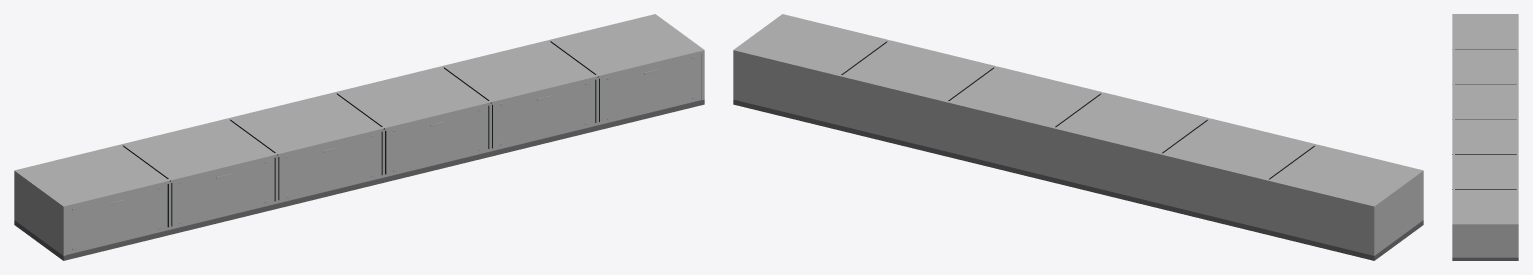
File: distribution-north.glb
The picture shows the model from 3 angles, left to right: view 1: azimuth 30°, elevation 25°; view 2: azimuth 150°, elevation 25°; view 3: azimuth 270°, elevation 25°; orthographic projection. The views are drawn at different scales.
Visible parts, largest first — view 1: roof, panel_4, panel_0, panel_5, panel_3, panel_2, panel_1, deck_plinth, end_-9.335, roof_backing, back_wall; view 2: back_wall, roof, deck_plinth, end_-9.335, roof_backing; view 3: roof, end_9.335, back_wall, deck_plinth, panel_5, panel_4, panel_0, end_-9.335, panel_1.
Part boxes in pixels (x1=…): roof: x1=14, y1=14, x2=704, y2=207; panel_4: x1=489, y1=75, x2=597, y2=151; panel_0: x1=61, y1=179, x2=169, y2=255; panel_5: x1=596, y1=49, x2=701, y2=124; panel_3: x1=383, y1=101, x2=490, y2=177; panel_2: x1=276, y1=127, x2=383, y2=203; panel_1: x1=169, y1=153, x2=276, y2=229; deck_plinth: x1=14, y1=99, x2=704, y2=260; end_-9.335: x1=14, y1=170, x2=66, y2=255; roof_backing: x1=17, y1=52, x2=704, y2=208; back_wall: x1=14, y1=14, x2=656, y2=220; back_wall: x1=733, y1=49, x2=1375, y2=255; roof: x1=735, y1=14, x2=1422, y2=207; deck_plinth: x1=733, y1=99, x2=1423, y2=260; end_-9.335: x1=1372, y1=170, x2=1423, y2=254; roof_backing: x1=736, y1=53, x2=1414, y2=208; roof: x1=1452, y1=14, x2=1518, y2=225; end_9.335: x1=1452, y1=223, x2=1518, y2=257; back_wall: x1=1516, y1=14, x2=1518, y2=257; deck_plinth: x1=1452, y1=257, x2=1518, y2=260; panel_5: x1=1453, y1=189, x2=1454, y2=257; panel_4: x1=1453, y1=154, x2=1454, y2=189; panel_0: x1=1453, y1=14, x2=1454, y2=48; end_-9.335: x1=1452, y1=14, x2=1516, y2=14; panel_1: x1=1453, y1=49, x2=1454, y2=83.
Size of the model in its own units: 18.75 by 1.52 by 2.5.
Materials: 5 (2 with a texture image).
